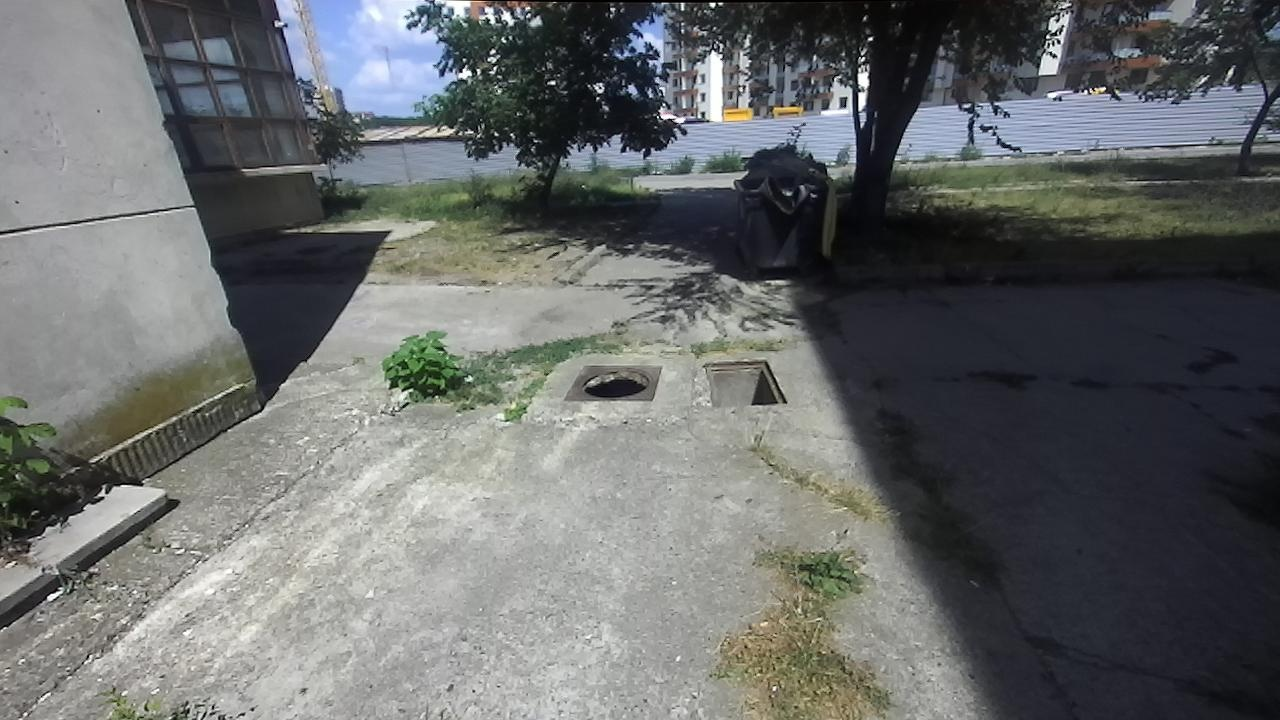drain: (699, 358, 788, 406), (578, 365, 651, 399)
